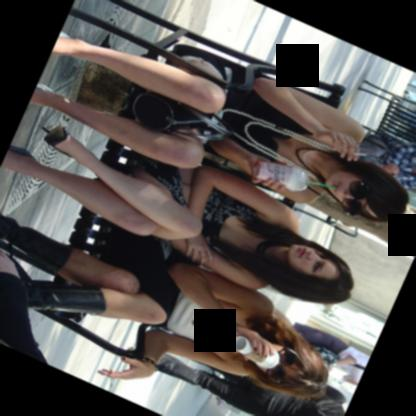handbag: (130, 92, 233, 139)
